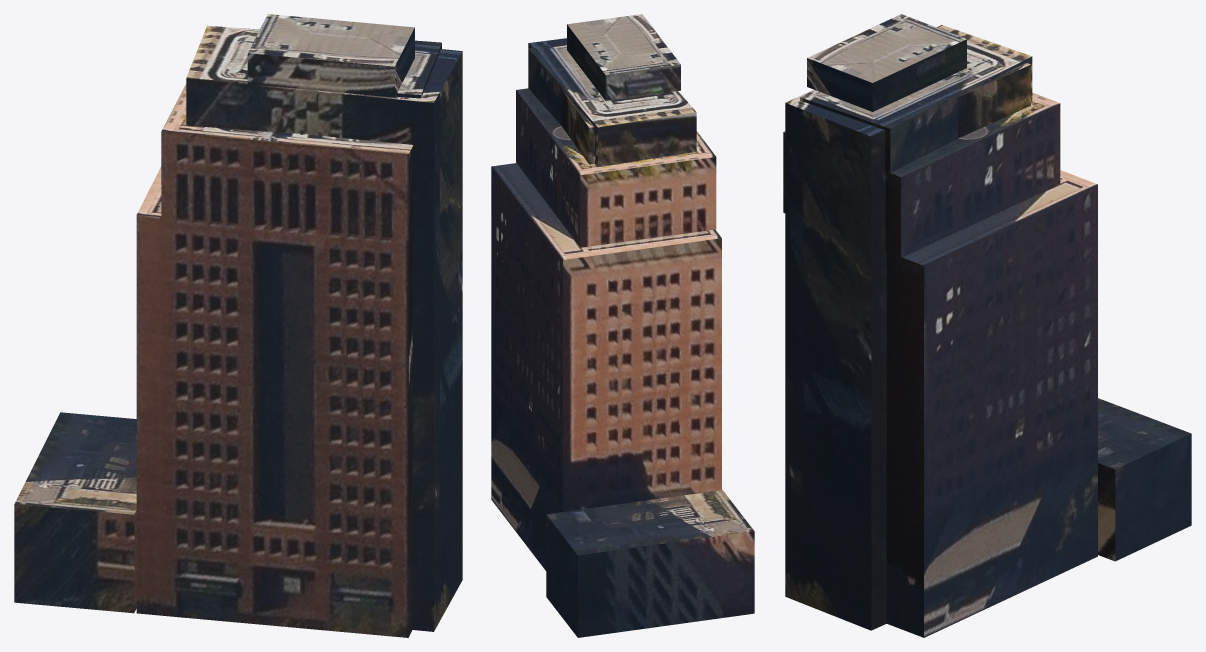
3 renders of one model, left to right at view 1: azimuth 30°, elevation 25°; view 2: azimuth 150°, elevation 25°; view 3: azimuth 270°, elevation 25°, orthographic. The views are drawn at different scales.
Visible parts, largest first — view 1: node_0e7dce36_89cd_421d_9970_3b4e928fbad3_mesh2, node_0e7dce36_89cd_421d_9970_3b4e928fbad3_mesh29, node_0e7dce36_89cd_421d_9970_3b4e928fbad3_mesh11, node_0e7dce36_89cd_421d_9970_3b4e928fbad3_mesh12, node_0e7dce36_89cd_421d_9970_3b4e928fbad3_mesh23, node_0e7dce36_89cd_421d_9970_3b4e928fbad3_mesh22, node_0e7dce36_89cd_421d_9970_3b4e928fbad3_mesh16, node_0e7dce36_89cd_421d_9970_3b4e928fbad3_mesh5, node_0e7dce36_89cd_421d_9970_3b4e928fbad3_mesh17, node_0e7dce36_89cd_421d_9970_3b4e928fbad3_mesh4, node_0e7dce36_89cd_421d_9970_3b4e928fbad3_mesh28, node_0e7dce36_89cd_421d_9970_3b4e928fbad3_mesh33 (+3 smaller); view 2: node_0e7dce36_89cd_421d_9970_3b4e928fbad3_mesh35, node_0e7dce36_89cd_421d_9970_3b4e928fbad3_mesh34, node_0e7dce36_89cd_421d_9970_3b4e928fbad3_mesh26, node_0e7dce36_89cd_421d_9970_3b4e928fbad3_mesh32, node_0e7dce36_89cd_421d_9970_3b4e928fbad3_mesh22, node_0e7dce36_89cd_421d_9970_3b4e928fbad3_mesh31, node_0e7dce36_89cd_421d_9970_3b4e928fbad3_mesh4, node_0e7dce36_89cd_421d_9970_3b4e928fbad3_mesh16, node_0e7dce36_89cd_421d_9970_3b4e928fbad3_mesh1, node_0e7dce36_89cd_421d_9970_3b4e928fbad3_mesh8, node_0e7dce36_89cd_421d_9970_3b4e928fbad3_mesh25, node_0e7dce36_89cd_421d_9970_3b4e928fbad3_mesh28 (+4 smaller); view 3: node_0e7dce36_89cd_421d_9970_3b4e928fbad3_mesh34, node_0e7dce36_89cd_421d_9970_3b4e928fbad3_mesh12, node_0e7dce36_89cd_421d_9970_3b4e928fbad3_mesh33, node_0e7dce36_89cd_421d_9970_3b4e928fbad3_mesh31, node_0e7dce36_89cd_421d_9970_3b4e928fbad3_mesh13, node_0e7dce36_89cd_421d_9970_3b4e928fbad3_mesh25, node_0e7dce36_89cd_421d_9970_3b4e928fbad3_mesh16, node_0e7dce36_89cd_421d_9970_3b4e928fbad3_mesh4, node_0e7dce36_89cd_421d_9970_3b4e928fbad3_mesh22, node_0e7dce36_89cd_421d_9970_3b4e928fbad3_mesh7, node_0e7dce36_89cd_421d_9970_3b4e928fbad3_mesh1, node_0e7dce36_89cd_421d_9970_3b4e928fbad3_mesh19 (+6 smaller).
Part boxes in pixels (<box>): node_0e7dce36_89cd_421d_9970_3b4e928fbad3_mesh2: <box>136,215,408,637</box>; node_0e7dce36_89cd_421d_9970_3b4e928fbad3_mesh29: <box>161,131,408,240</box>; node_0e7dce36_89cd_421d_9970_3b4e928fbad3_mesh11: <box>301,90,433,631</box>; node_0e7dce36_89cd_421d_9970_3b4e928fbad3_mesh12: <box>434,51,462,631</box>; node_0e7dce36_89cd_421d_9970_3b4e928fbad3_mesh23: <box>14,504,134,613</box>; node_0e7dce36_89cd_421d_9970_3b4e928fbad3_mesh22: <box>14,412,136,514</box>; node_0e7dce36_89cd_421d_9970_3b4e928fbad3_mesh16: <box>248,14,414,66</box>; node_0e7dce36_89cd_421d_9970_3b4e928fbad3_mesh5: <box>186,78,420,133</box>; node_0e7dce36_89cd_421d_9970_3b4e928fbad3_mesh17: <box>247,53,394,97</box>; node_0e7dce36_89cd_421d_9970_3b4e928fbad3_mesh4: <box>186,25,441,94</box>; node_0e7dce36_89cd_421d_9970_3b4e928fbad3_mesh28: <box>162,84,413,153</box>; node_0e7dce36_89cd_421d_9970_3b4e928fbad3_mesh33: <box>408,234,412,637</box>; node_0e7dce36_89cd_421d_9970_3b4e928fbad3_mesh35: <box>563,238,721,511</box>; node_0e7dce36_89cd_421d_9970_3b4e928fbad3_mesh34: <box>491,166,562,570</box>; node_0e7dce36_89cd_421d_9970_3b4e928fbad3_mesh26: <box>578,531,754,637</box>; node_0e7dce36_89cd_421d_9970_3b4e928fbad3_mesh32: <box>580,157,716,247</box>; node_0e7dce36_89cd_421d_9970_3b4e928fbad3_mesh22: <box>546,490,754,555</box>; node_0e7dce36_89cd_421d_9970_3b4e928fbad3_mesh31: <box>516,90,580,246</box>; node_0e7dce36_89cd_421d_9970_3b4e928fbad3_mesh4: <box>528,42,695,127</box>; node_0e7dce36_89cd_421d_9970_3b4e928fbad3_mesh16: <box>567,14,680,74</box>; node_0e7dce36_89cd_421d_9970_3b4e928fbad3_mesh1: <box>491,163,721,259</box>; node_0e7dce36_89cd_421d_9970_3b4e928fbad3_mesh8: <box>598,112,696,166</box>; node_0e7dce36_89cd_421d_9970_3b4e928fbad3_mesh25: <box>546,515,577,637</box>; node_0e7dce36_89cd_421d_9970_3b4e928fbad3_mesh28: <box>516,88,715,175</box>; node_0e7dce36_89cd_421d_9970_3b4e928fbad3_mesh34: <box>924,184,1097,637</box>; node_0e7dce36_89cd_421d_9970_3b4e928fbad3_mesh12: <box>785,103,871,630</box>; node_0e7dce36_89cd_421d_9970_3b4e928fbad3_mesh33: <box>886,252,923,637</box>; node_0e7dce36_89cd_421d_9970_3b4e928fbad3_mesh31: <box>901,103,1060,257</box>; node_0e7dce36_89cd_421d_9970_3b4e928fbad3_mesh13: <box>871,65,1030,630</box>; node_0e7dce36_89cd_421d_9970_3b4e928fbad3_mesh25: <box>1115,433,1191,561</box>; node_0e7dce36_89cd_421d_9970_3b4e928fbad3_mesh16: <box>807,14,966,82</box>; node_0e7dce36_89cd_421d_9970_3b4e928fbad3_mesh4: <box>800,25,1031,128</box>; node_0e7dce36_89cd_421d_9970_3b4e928fbad3_mesh22: <box>1098,398,1190,469</box>; node_0e7dce36_89cd_421d_9970_3b4e928fbad3_mesh7: <box>890,56,1032,172</box>; node_0e7dce36_89cd_421d_9970_3b4e928fbad3_mesh1: <box>902,170,1097,265</box>; node_0e7dce36_89cd_421d_9970_3b4e928fbad3_mesh19: <box>872,39,966,111</box>.
Size of the model in its own units: 37751 by 38111 by 54206.
Materials: 2 (2 with a texture image).
